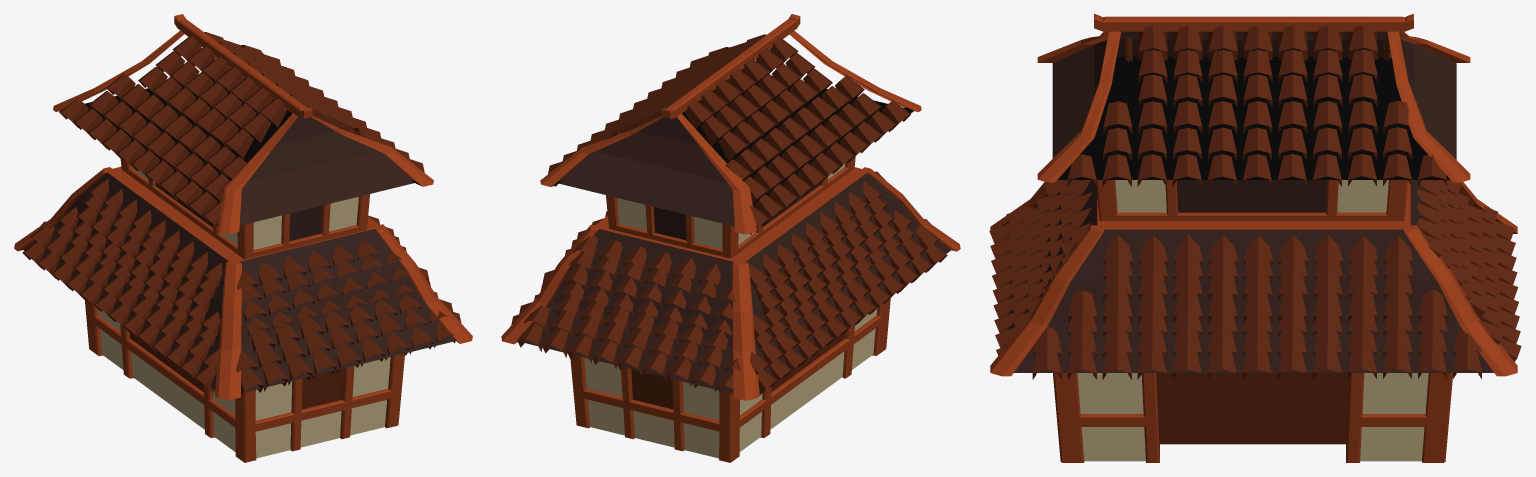
File: Building01.dae
3 renders of one model, left to right at view 1: azimuth 30°, elevation 25°; view 2: azimuth 150°, elevation 25°; view 3: azimuth 270°, elevation 25°, orthographic. The views are drawn at different scales.
Parts seen in each view (by area): view 1: Roof-Bottom, Building- Bottom, Roof-Top, Building- Top, Shingles.029, Shingles.015, Shingles.016, Shingles.030, Shingles.031, Shingles.001, Shingles.032, Shingles.033 (+17 smaller); view 2: Roof-Bottom, Building- Bottom, Roof-Top, Building- Top, Shingles.029, Shingles.016, Shingles.015, Shingles.030, Shingles.031, Shingles.008, Shingles.009, Shingles.032 (+17 smaller); view 3: Roof-Top, Roof-Bottom, Building- Bottom, Building- Top, Shingles.022, Shingles.023, Shingles.036, Shingles.025, Shingles.038, Shingles.037, Shingles.024, Shingles.026 (+21 smaller).
Boxes of the visible parts, x1=… form: Roof-Bottom: x1=14, y1=166, x2=472, y2=400; Building- Bottom: x1=85, y1=300, x2=404, y2=462; Roof-Top: x1=53, y1=14, x2=433, y2=234; Building- Top: x1=120, y1=159, x2=369, y2=259; Shingles.029: x1=59, y1=98, x2=221, y2=227; Shingles.015: x1=22, y1=241, x2=216, y2=392; Shingles.016: x1=30, y1=224, x2=218, y2=372; Shingles.030: x1=89, y1=91, x2=230, y2=202; Shingles.031: x1=106, y1=73, x2=246, y2=178; Shingles.001: x1=241, y1=321, x2=455, y2=396; Shingles.032: x1=138, y1=66, x2=253, y2=158; Shingles.033: x1=156, y1=51, x2=271, y2=142; Roof-Bottom: x1=501, y1=167, x2=960, y2=400; Building- Bottom: x1=570, y1=298, x2=890, y2=462; Roof-Top: x1=540, y1=14, x2=921, y2=234; Building- Top: x1=606, y1=156, x2=855, y2=258; Shingles.029: x1=749, y1=100, x2=910, y2=234; Shingles.016: x1=750, y1=225, x2=939, y2=374; Shingles.015: x1=757, y1=244, x2=947, y2=395; Shingles.030: x1=744, y1=93, x2=881, y2=203; Shingles.031: x1=726, y1=75, x2=864, y2=180; Shingles.008: x1=517, y1=323, x2=734, y2=393; Shingles.009: x1=524, y1=305, x2=741, y2=371; Shingles.032: x1=718, y1=68, x2=832, y2=160; Roof-Top: x1=1037, y1=14, x2=1470, y2=182; Roof-Bottom: x1=990, y1=180, x2=1517, y2=376; Building- Bottom: x1=1053, y1=373, x2=1452, y2=462; Building- Top: x1=1096, y1=180, x2=1407, y2=221; Shingles.022: x1=1032, y1=349, x2=1481, y2=379; Shingles.023: x1=1033, y1=327, x2=1482, y2=356; Shingles.036: x1=1067, y1=153, x2=1446, y2=186; Shingles.025: x1=1068, y1=290, x2=1447, y2=322; Shingles.038: x1=1103, y1=100, x2=1411, y2=133; Shingles.037: x1=1103, y1=127, x2=1412, y2=160; Shingles.024: x1=1068, y1=312, x2=1447, y2=336; Shingles.026: x1=1103, y1=272, x2=1412, y2=299.
Size of the model in its own units: 4.41 by 6.25 by 5.2.
